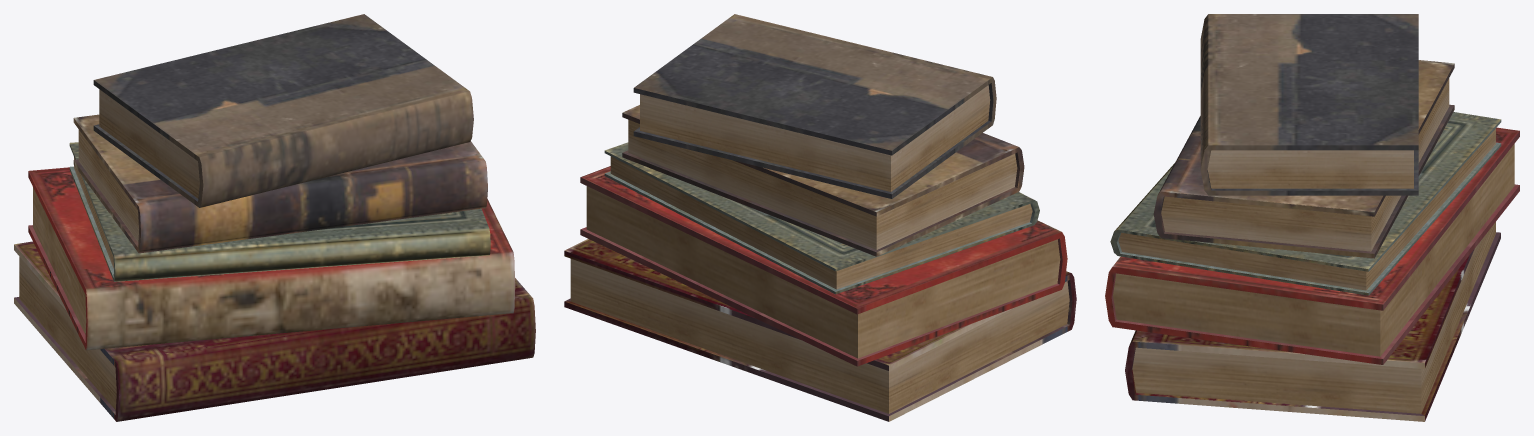
The model's file is SM_Book_Old.043.fbx.
3 renders of one model, left to right at view 1: azimuth 30°, elevation 25°; view 2: azimuth 150°, elevation 25°; view 3: azimuth 270°, elevation 25°, orthographic. The views are drawn at different scales.
Visible parts, largest first — view 1: SM_Book_Old.043; view 2: SM_Book_Old.043; view 3: SM_Book_Old.043.
Boxes of the visible parts, x1=… form: SM_Book_Old.043: x1=14, y1=14, x2=535, y2=421; SM_Book_Old.043: x1=564, y1=14, x2=1076, y2=421; SM_Book_Old.043: x1=1105, y1=14, x2=1519, y2=421.
Size of the model in its own units: 0.4006 by 0.213 by 0.3296.
